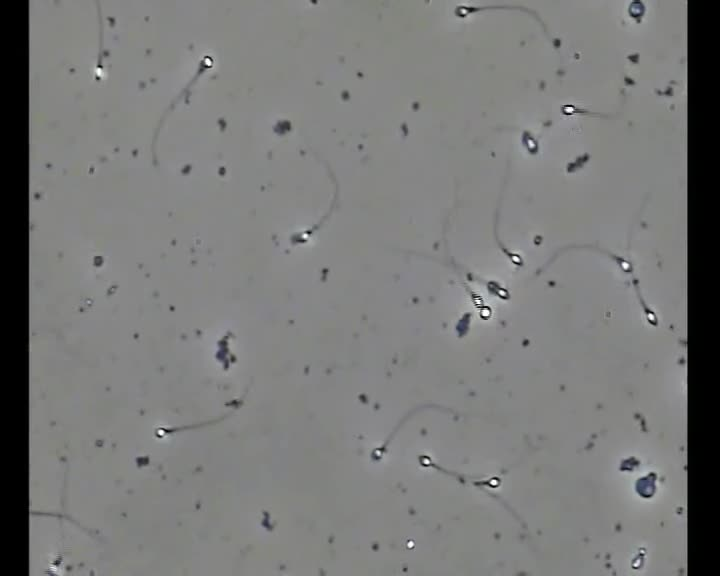spermhead: (634, 472, 656, 498), (486, 280, 509, 299), (521, 131, 539, 154), (627, 0, 645, 22), (291, 227, 314, 244), (455, 312, 471, 336), (618, 455, 639, 471), (631, 547, 646, 569), (454, 4, 476, 18), (615, 256, 632, 272), (506, 251, 523, 266), (467, 287, 482, 304), (371, 444, 386, 460), (51, 552, 61, 575), (93, 62, 105, 81), (199, 55, 214, 70), (563, 105, 578, 120), (153, 426, 171, 438), (482, 476, 500, 488), (645, 308, 657, 325), (418, 454, 433, 467), (224, 398, 243, 408), (478, 304, 490, 318), (465, 271, 477, 282), (407, 539, 415, 549)
